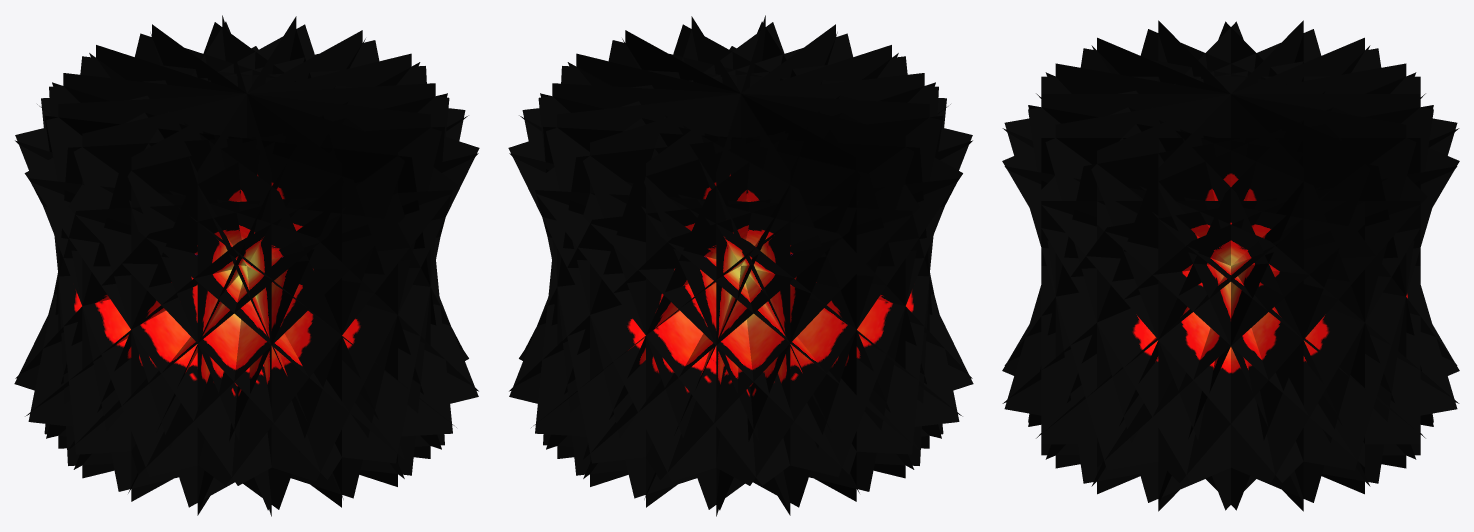
The model's file is explosion.dae.
3 renders of one model, left to right at view 1: azimuth 30°, elevation 25°; view 2: azimuth 150°, elevation 25°; view 3: azimuth 270°, elevation 25°, orthographic.
Parts seen in each view (by area): view 1: Component_1 (×8); view 2: Component_1 (×8); view 3: Component_1 (×8).
Part boxes in pixels (x1,y1,x2,y2): Component_1 (×8): [14, 15, 479, 516]; Component_1 (×8): [508, 15, 973, 516]; Component_1 (×8): [1002, 20, 1459, 511].
Size of the model in its own units: 8951 by 8951 by 7415.
1 material, 1 textured.
